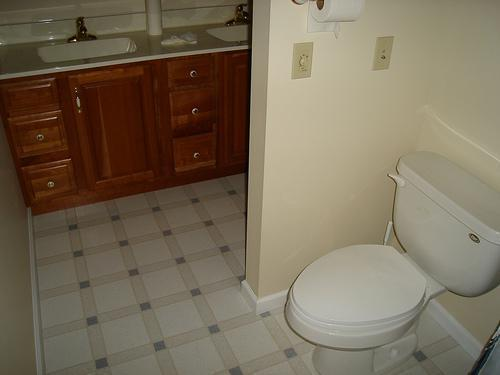Lavamanos: (30, 11, 139, 74), (206, 4, 296, 46)
